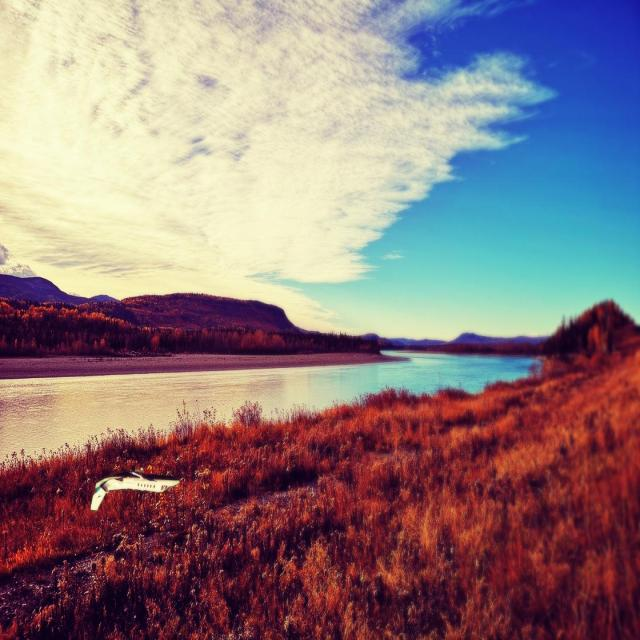airplane: (90, 470, 181, 511)
